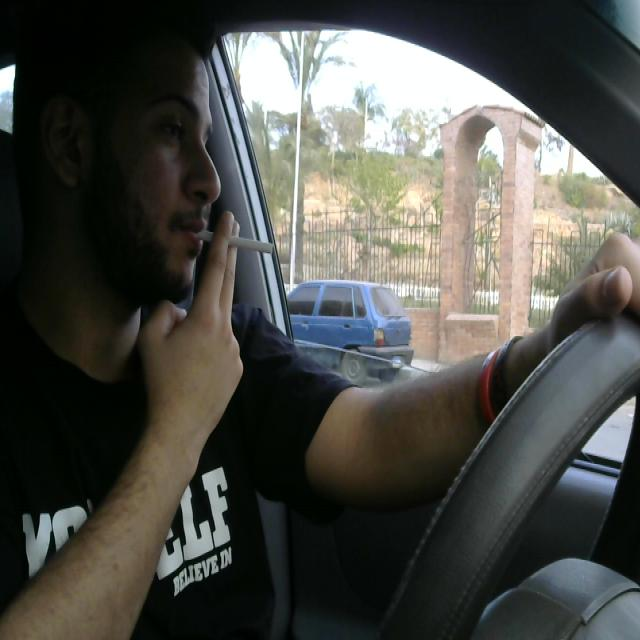smoking: (180, 220, 278, 260)
